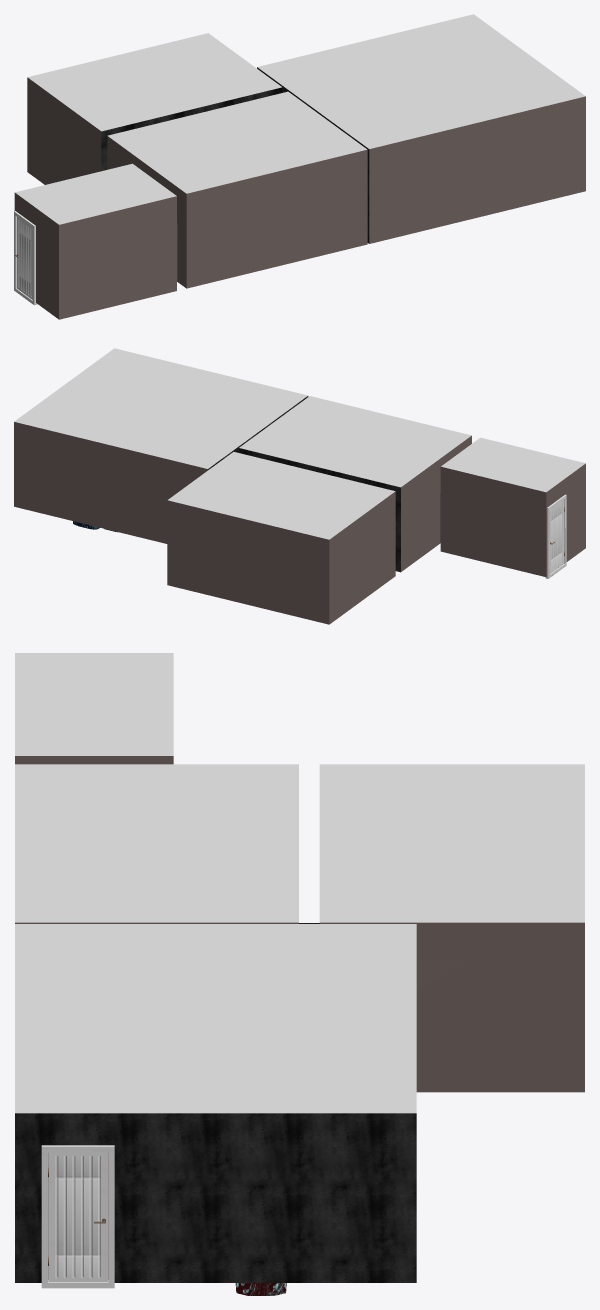
File: room3_1.fbx
The picture shows the model from 3 angles, top to bottom: view 1: azimuth 30°, elevation 25°; view 2: azimuth 150°, elevation 25°; view 3: azimuth 270°, elevation 25°; orthographic projection. The views are drawn at different scales.
Parts seen in each view (by area): view 1: 1, 2, doorBoard.003, BaseB.002; view 2: 1, 2, doorBoard.003, BaseB.002; view 3: 2, 1, doorBoard.002, BaseB.006.
Boxes of the visible parts, left/top/right/bottom form: 1: left=14, top=33, right=367, bottom=319; 2: left=257, top=14, right=585, bottom=243; doorBoard.003: left=14, top=217, right=32, bottom=299; BaseB.002: left=14, top=211, right=37, bottom=305; 1: left=167, top=396, right=585, bottom=624; 2: left=14, top=348, right=308, bottom=543; doorBoard.003: left=550, top=500, right=564, bottom=573; BaseB.002: left=545, top=494, right=566, bottom=578; 2: left=15, top=924, right=416, bottom=1282; 1: left=15, top=653, right=584, bottom=1092; doorBoard.002: left=48, top=1152, right=107, bottom=1281; BaseB.006: left=41, top=1145, right=114, bottom=1288.
Bounding box in the file's own units: 1612 × 386 × 833.
